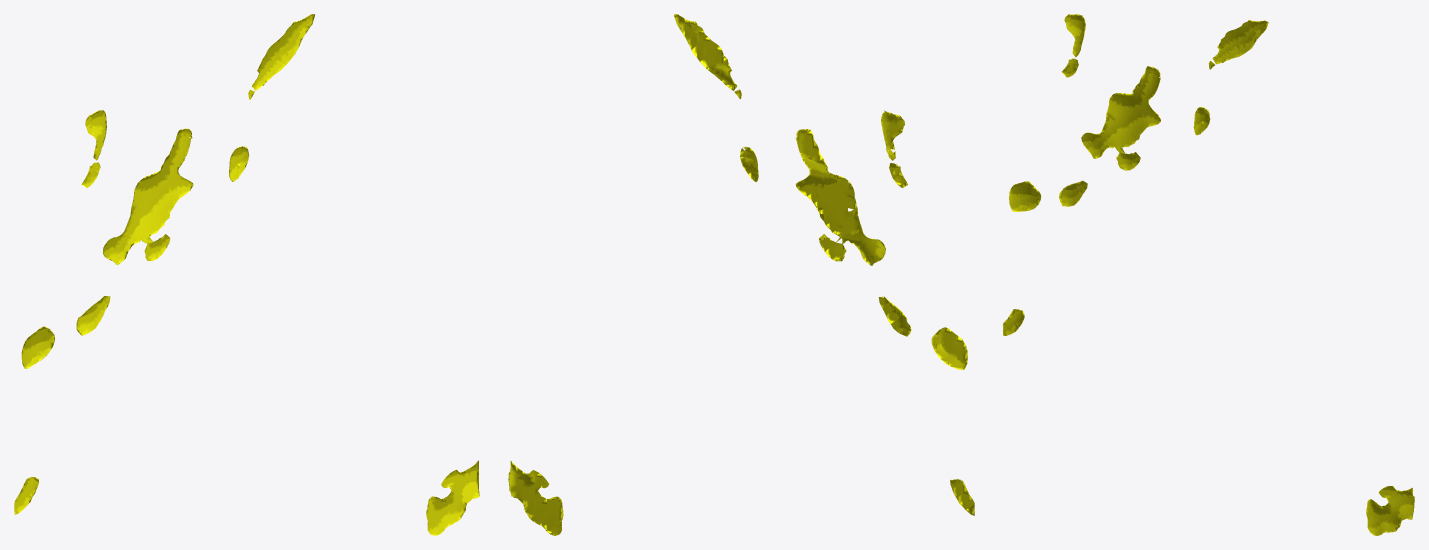
Rendered from Qpjx.gltf.
3 renders of one model, left to right at view 1: azimuth 30°, elevation 25°; view 2: azimuth 150°, elevation 25°; view 3: azimuth 330°, elevation 25°, orthographic. The views are drawn at different scales.
Visible parts, largest first — view 1: Switch_Switch_osgPicked_gmeGeoEntityGeode_Geometry_Geometry_ (×6); view 2: Switch_Switch_osgPicked_gmeGeoEntityGeode_Geometry_Geometry_ (×6); view 3: Switch_Switch_osgPicked_gmeGeoEntityGeode_Geometry_Geometry_ (×6).
Part boxes in pixels (<box>): Switch_Switch_osgPicked_gmeGeoEntityGeode_Geometry_Geometry_ (×6): <box>21,14,479,535</box>; Switch_Switch_osgPicked_gmeGeoEntityGeode_Geometry_Geometry_ (×6): <box>508,14,967,535</box>; Switch_Switch_osgPicked_gmeGeoEntityGeode_Geometry_Geometry_ (×6): <box>1009,14,1414,535</box>.
Size of what is drawn, in the model's own units: 38517 by 43755 by 601.
